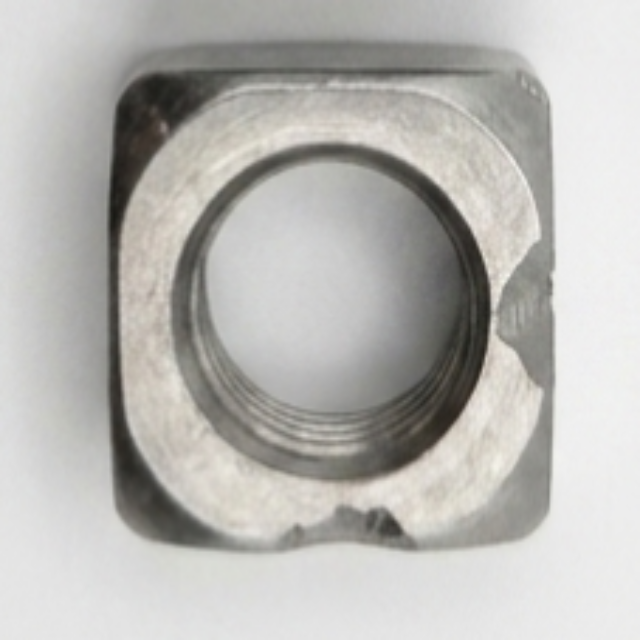defect: (493, 234, 559, 400), (261, 501, 424, 564)
